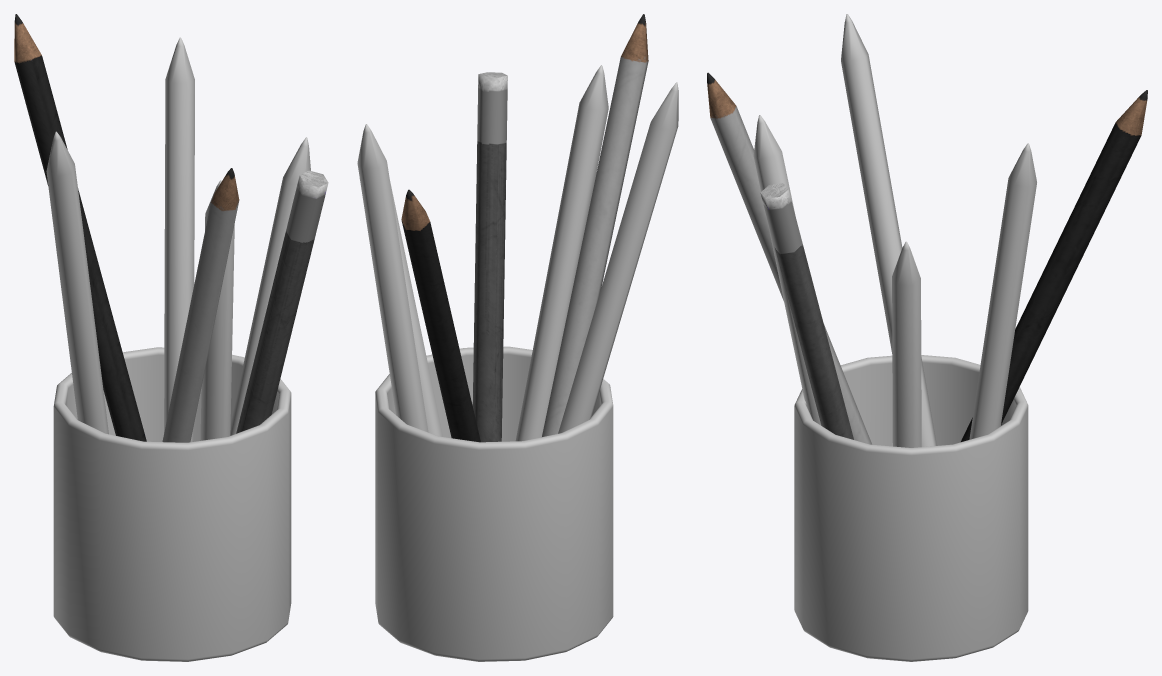
Rendered from pencilholder.fbx.
3 views of the same model, side by side, from view 1: azimuth 30°, elevation 25°; view 2: azimuth 150°, elevation 25°; view 3: azimuth 270°, elevation 25° (orthographic). The views are drawn at different scales.
Visible parts, largest first — view 1: Penholder.001; view 2: Penholder.001; view 3: Penholder.001.
Part boxes in pixels (x1,y1,x2,y2): Penholder.001: [14, 14, 328, 661]; Penholder.001: [357, 14, 678, 661]; Penholder.001: [707, 14, 1147, 661].
Bounding box in the file's own units: 114 × 205 × 155.
